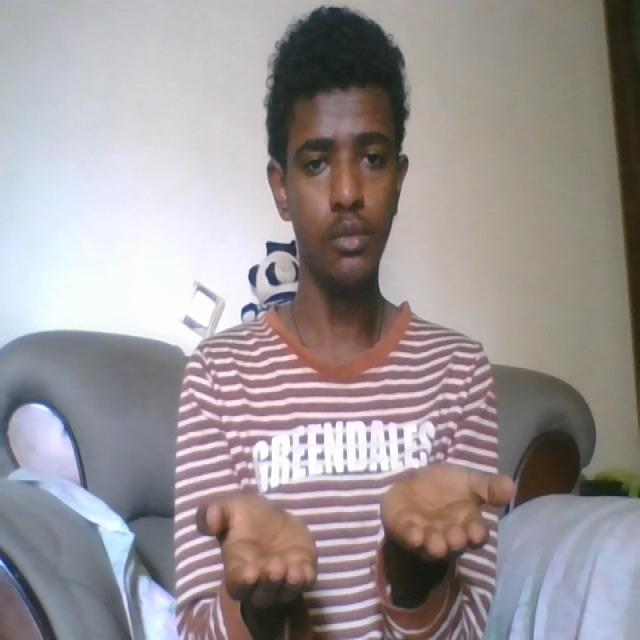mestet: (197, 501, 522, 589)
